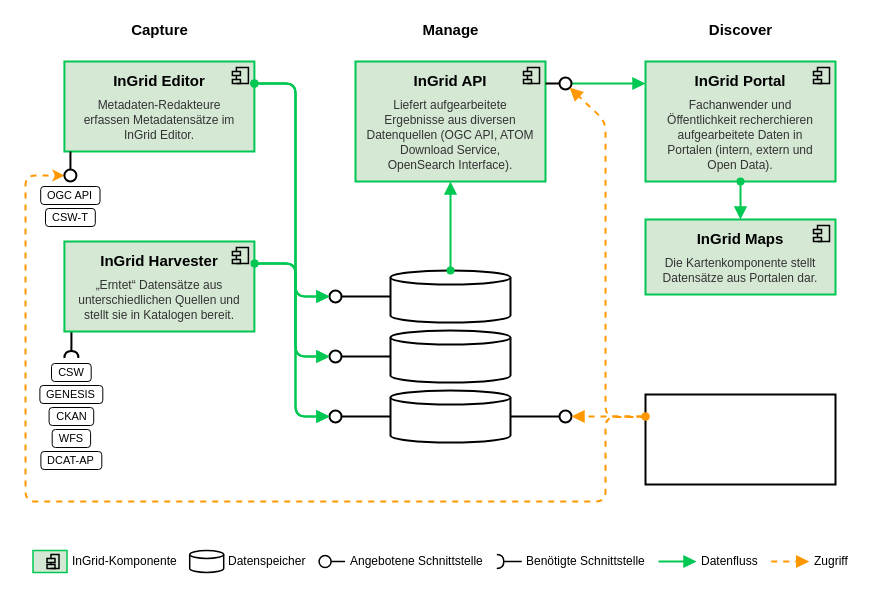
This 875x590 diagram has some shape labels left out. Each missing label, with the centre of its shape:
Elasticsearch: the point at 450,296
Externe Clients Fachanwender und Öffentlichkeit greifen auf Schnittstellen zu.: the point at 740,439
PostgreSQL: the point at 450,356
pycsw: the point at 450,416
